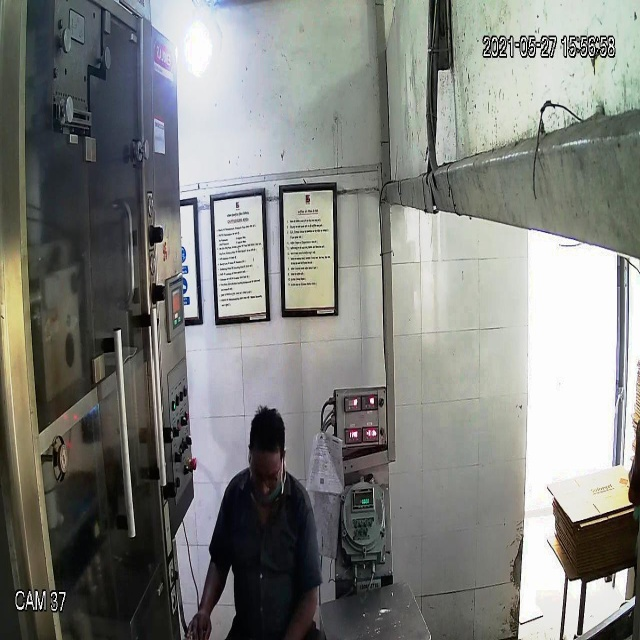Gafas: (246, 457, 286, 494)
